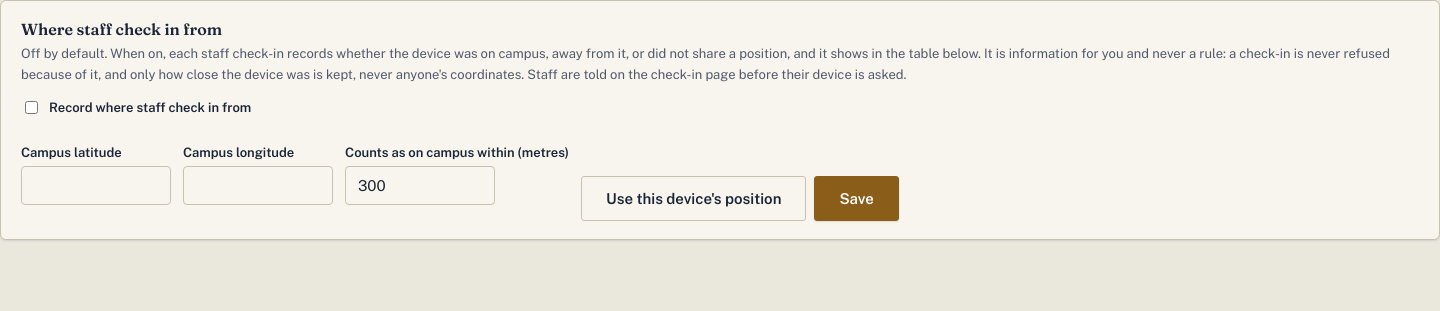
Test case: the accuracy of the position the administrator fills in › warns, as an alert, that a rough fix should be replaced by coordinates from a map
The image size is (1440, 311).
Click the button "Use this device's position": (694, 198) [581,176,806,221]
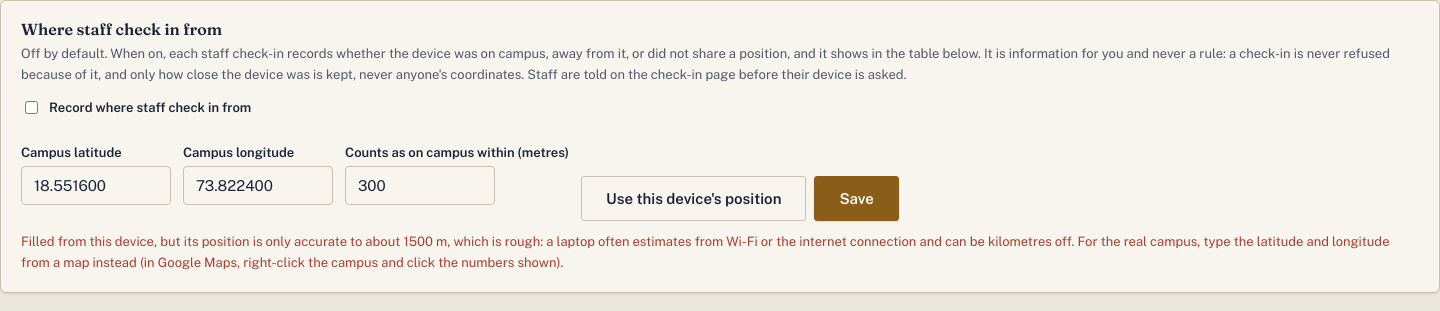
Expected: the message shows "only accurate to about 1500 m", [21,234,1389,270]
Expected: the message shows "type the latitude and longitude from a map", [21,234,1389,270]
